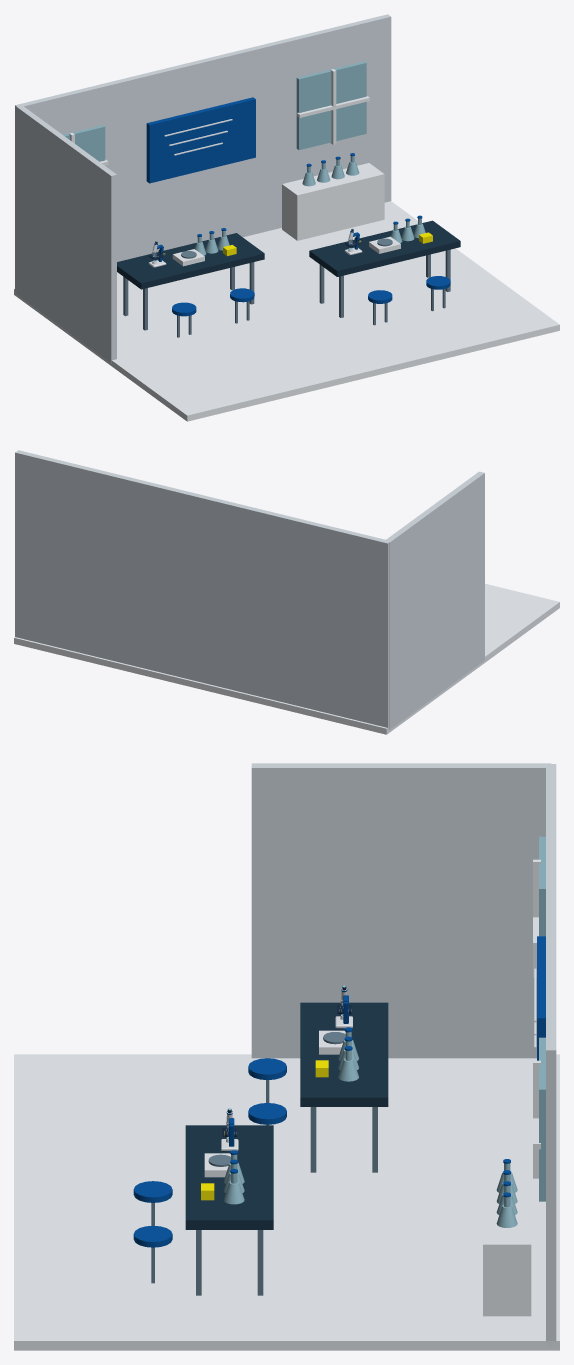
Rendered from europe-lab.glb.
The picture shows the model from 3 angles, top to bottom: view 1: azimuth 30°, elevation 25°; view 2: azimuth 150°, elevation 25°; view 3: azimuth 270°, elevation 25°; orthographic projection. The views are drawn at different scales.
Parts seen in each view (by area): view 1: Floor, RearWall, SideWall, Worktop (×2), Board, Cabinet, Window (×2); view 2: RearWall, SideWall, Floor; view 3: Floor, SideWall, Worktop (×2), RearWall, Cabinet, Stool (×4), Window, Board.
Part boxes in pixels (x1,y1,x2,y2): Floor: [14, 201, 559, 421]; RearWall: [15, 14, 391, 292]; SideWall: [16, 106, 116, 363]; Worktop (×2): [117, 220, 460, 289]; Board: [146, 97, 255, 183]; Cabinet: [282, 163, 384, 240]; Window (×2): [63, 61, 366, 161]; RearWall: [15, 450, 390, 730]; SideWall: [386, 471, 484, 729]; Floor: [14, 583, 559, 734]; Floor: [14, 1054, 559, 1350]; SideWall: [251, 763, 551, 1058]; Worktop (×2): [185, 1002, 388, 1229]; RearWall: [546, 764, 556, 1345]; Cabinet: [483, 1177, 531, 1316]; Stool (×4): [133, 1058, 286, 1247]; Window: [539, 1037, 545, 1201]; Board: [537, 936, 545, 1060].
Size of the model in its own units: 7.71 by 3.76 by 6.2.
